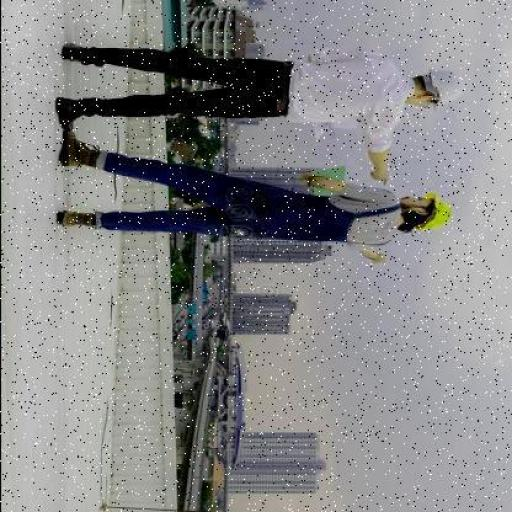person: (48, 28, 468, 181), (32, 134, 452, 272)
safety_shoe: (56, 135, 99, 167), (50, 206, 92, 232), (49, 98, 80, 132), (62, 45, 91, 63)
